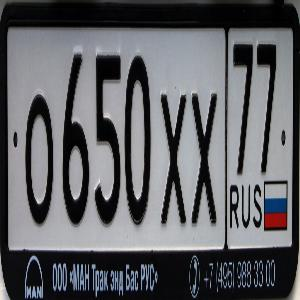Vehicle-registration-plate: (1, 1, 300, 300)
